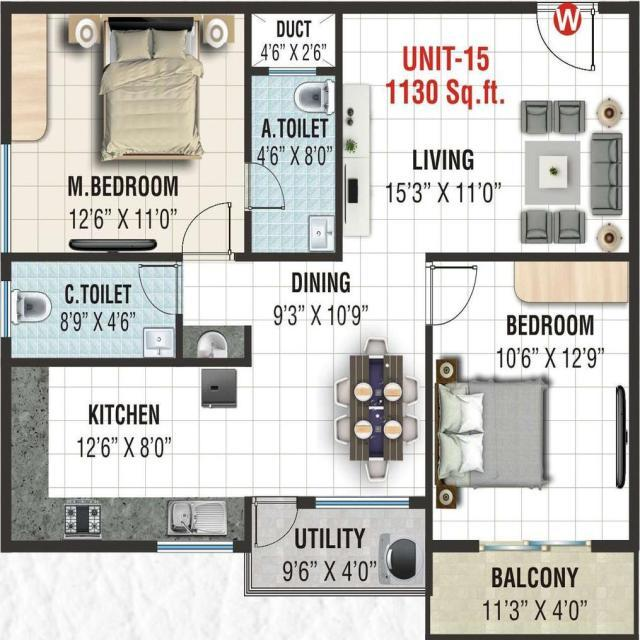Balcony-Sitout: (428, 540, 640, 639)
Bedroom: (423, 251, 640, 554)
Bedroom with Toilet: (1, 1, 340, 260)
Dining: (329, 333, 423, 487)
Enterance-Foyer: (535, 1, 604, 86)
Kitchen: (0, 355, 255, 553)
Living: (338, 3, 640, 261)
Toilet: (2, 254, 184, 369), (245, 67, 340, 260)
Utility: (246, 498, 434, 597)
